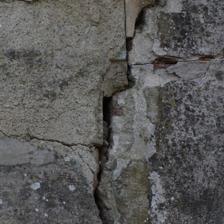Crack: (33, 0, 179, 143), (10, 62, 51, 153), (142, 110, 171, 172), (104, 17, 157, 41)
